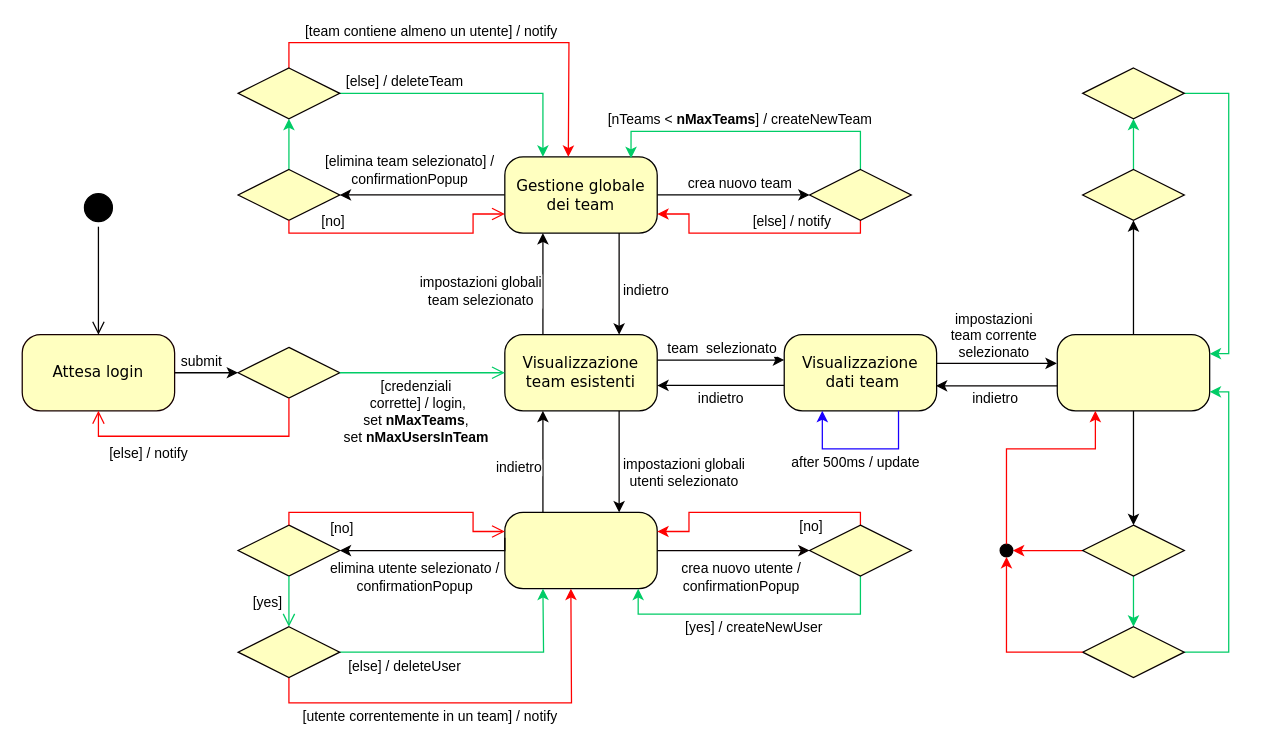
This 1261x745 diagram has some shape labels left out. The centre of each missing label's shape, as x and y in pixels:
Gestione globale degli utenti: (x=580, y=550)
Gestione team corrente: (x=1133, y=372)
